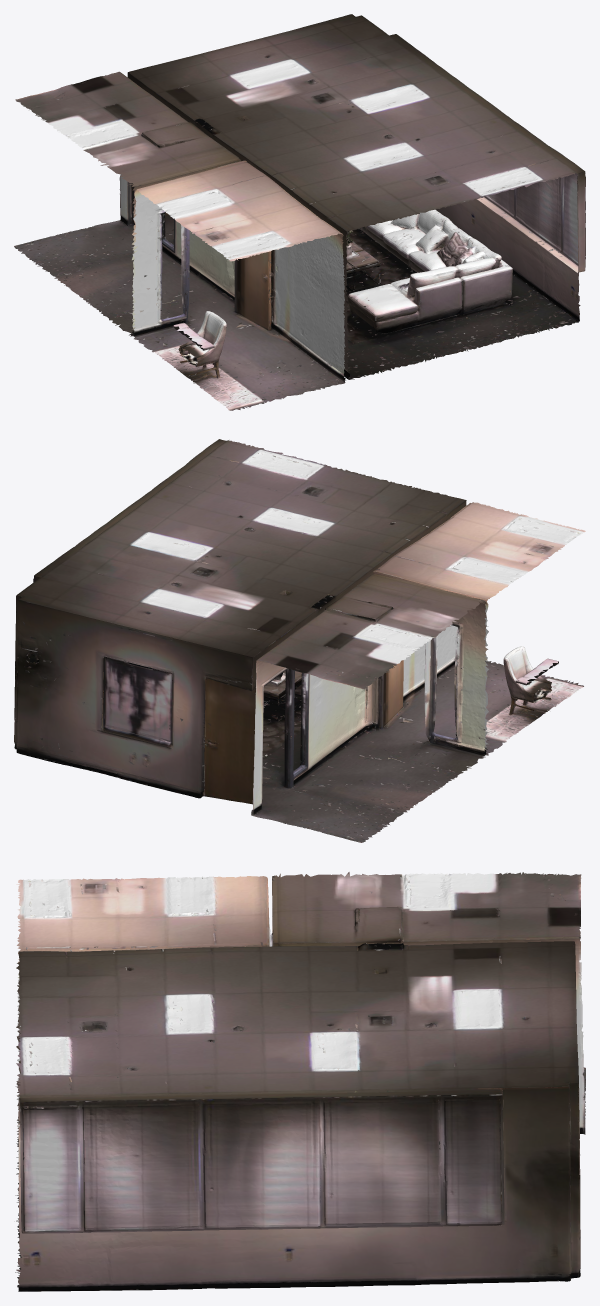
Rendered from apartment-move-in.glb.
3 views of the same model, one above another, from view 1: azimuth 30°, elevation 25°; view 2: azimuth 150°, elevation 25°; view 3: azimuth 270°, elevation 25° (orthographic). The views are drawn at different scales.
Parts seen in each view (by area): view 1: ReplicaApartmentRoom; view 2: ReplicaApartmentRoom; view 3: ReplicaApartmentRoom.
Boxes of the visible parts, x1,y1,x2,y2 form: ReplicaApartmentRoom: (14, 14, 585, 410); ReplicaApartmentRoom: (14, 439, 585, 842); ReplicaApartmentRoom: (15, 872, 585, 1291).
Bounding box in the file's own units: 6.89 × 2.89 × 7.22.
Materials: 1 (1 with a texture image).
